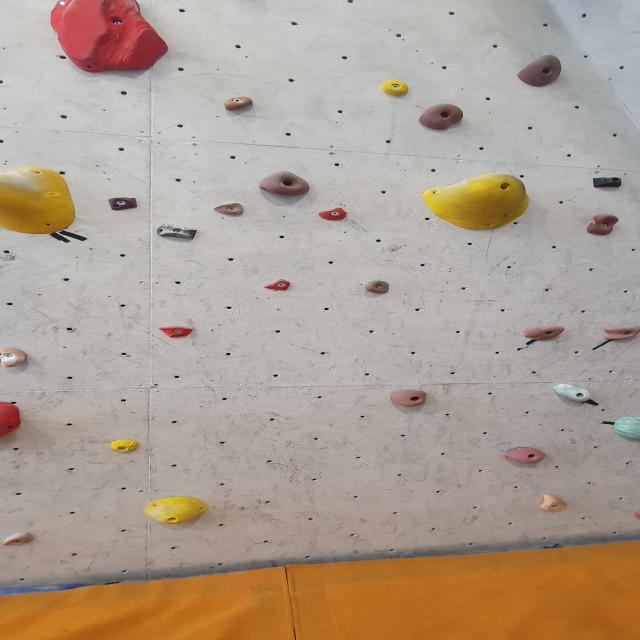Crimp: (373, 77, 417, 99), (103, 436, 151, 455), (98, 195, 147, 213), (208, 200, 254, 219), (152, 322, 200, 340), (257, 277, 302, 294), (314, 206, 354, 223), (0, 531, 38, 547), (224, 94, 255, 110)
Jug: (510, 48, 569, 90), (418, 103, 464, 130), (384, 386, 434, 408), (504, 444, 551, 467), (520, 324, 576, 343), (0, 347, 36, 369), (585, 213, 620, 235), (600, 325, 640, 344), (358, 280, 398, 294)
Pinch: (552, 382, 597, 406), (533, 492, 570, 516), (154, 223, 202, 240), (587, 174, 626, 190)
Sloper: (41, 0, 171, 75), (419, 169, 538, 233), (0, 165, 81, 240), (141, 494, 212, 526), (257, 170, 313, 198), (0, 399, 24, 445)
